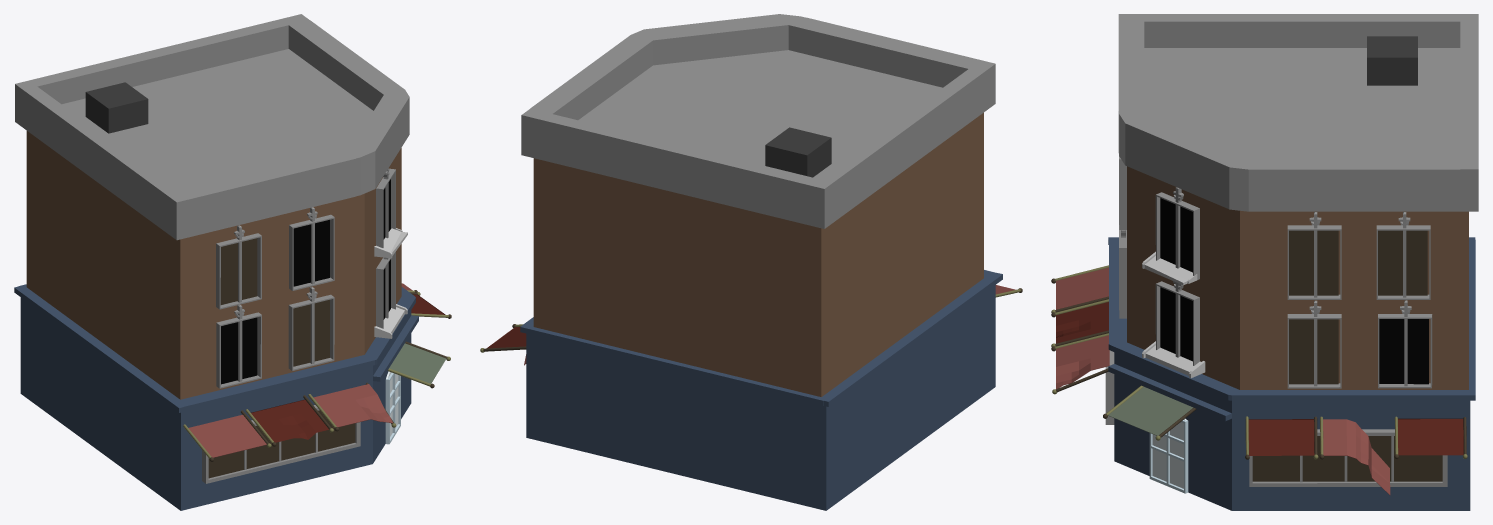
The model's file is Building1.fbx.
3 renders of one model, left to right at view 1: azimuth 30°, elevation 25°; view 2: azimuth 150°, elevation 25°; view 3: azimuth 270°, elevation 25°, orthographic. The views are drawn at different scales.
Parts seen in each view (by area): view 1: Cube, Cube.005, Cube.003, Cube.001, Cube.002, Cube.004, Cube.006; view 2: Cube; view 3: Cube, Cube.007, Cube.008, Cube.009, Cube.010, Cube.004, Cube.006, Cube.005, Cube.002.
Boxes of the visible parts, <box> form: Cube: <box>14,14,451,510</box>; Cube.005: <box>288,287,334,370</box>; Cube.003: <box>216,304,261,388</box>; Cube.001: <box>216,225,261,309</box>; Cube.002: <box>289,207,334,290</box>; Cube.004: <box>376,168,395,247</box>; Cube.006: <box>376,252,395,328</box>; Cube: <box>480,14,1022,510</box>; Cube: <box>1051,14,1478,510</box>; Cube.007: <box>1287,300,1341,388</box>; Cube.008: <box>1287,212,1341,299</box>; Cube.009: <box>1376,212,1430,299</box>; Cube.010: <box>1378,300,1432,388</box>; Cube.004: <box>1155,187,1199,279</box>; Cube.006: <box>1155,281,1199,365</box>; Cube.005: <box>1119,225,1126,318</box>; Cube.002: <box>1119,156,1126,229</box>.
Bounding box in the file's own units: 3192 × 2813 × 3172.
